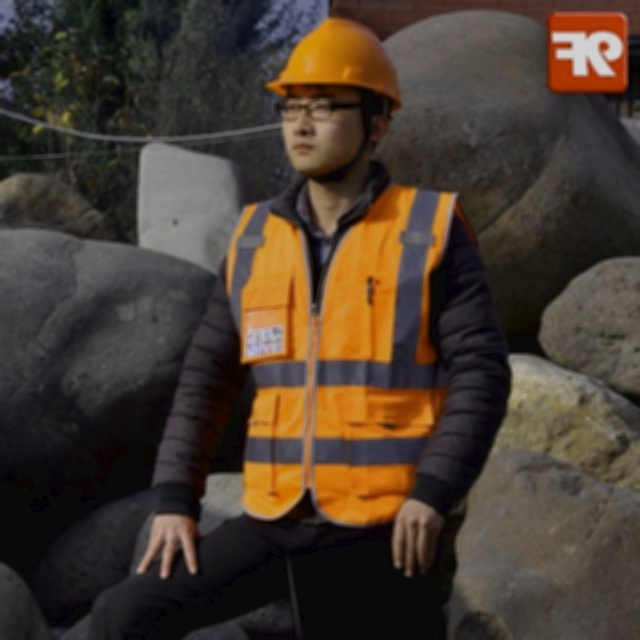Con_Casco: (271, 19, 408, 167)
Con_Chaleco: (228, 184, 459, 524)
